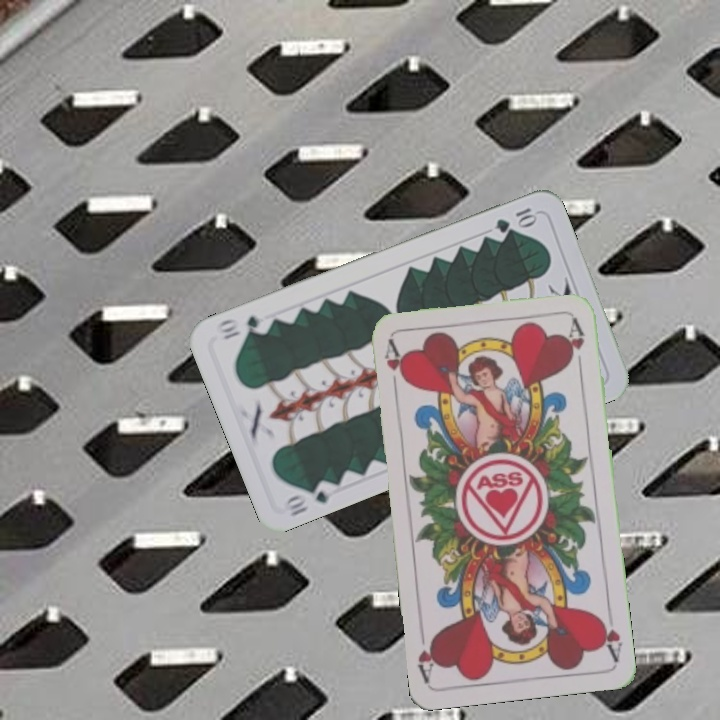G10: (279, 476, 338, 520), (491, 203, 540, 236)
HA: (595, 604, 625, 663), (380, 337, 409, 396)
